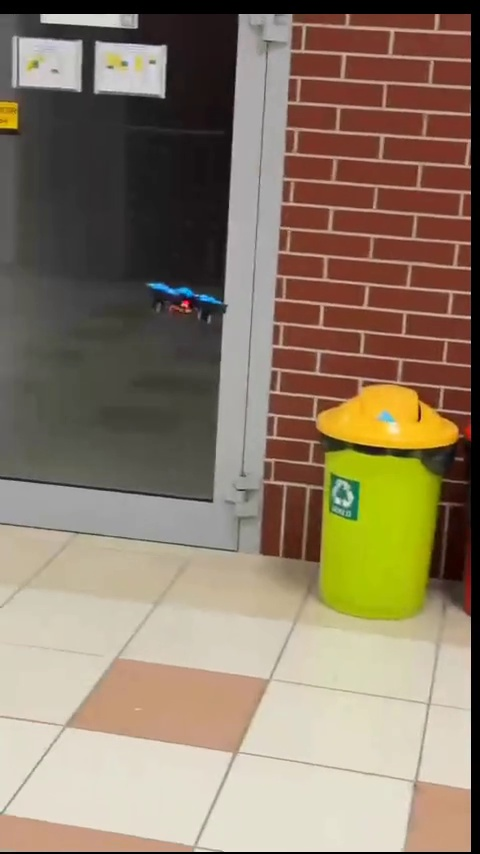drone: (142, 279, 230, 323)
